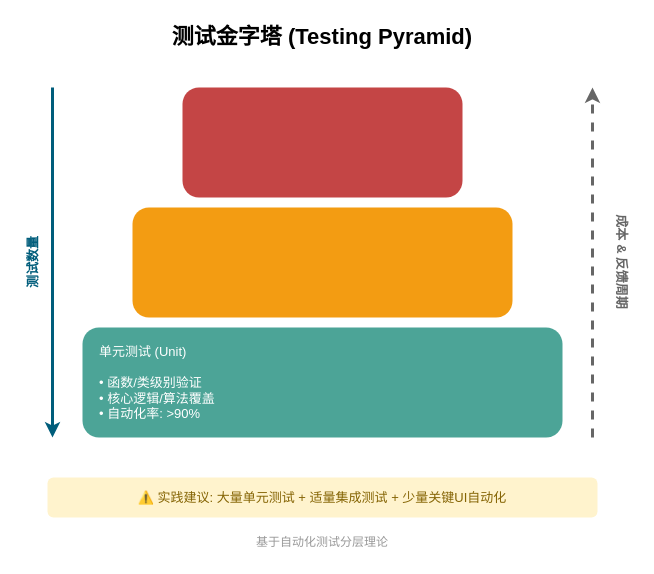
This 654x574 diagram has some shape labels left out. Each missing label, with the centre of its shape:
UI / E2E 测试 • 端到端业务流程验证 • 覆盖关键路径 • 自动化率: 20-40% 成本: 高 | 速度: 慢 | 反馈: 晚: point (322, 142)
集成测试 (Service/API) • API/接口交互验证 • 模块间集成测试 • 自动化率: 60-80% 成本: 中 | 速度: 中 | 反馈: 中: point (322, 262)
